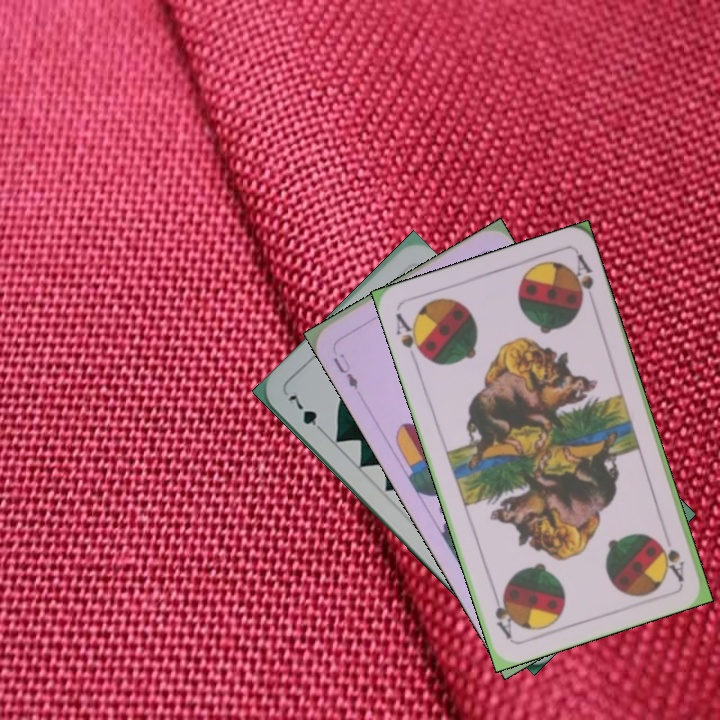EU: (328, 343, 361, 392)
G7: (283, 390, 328, 436)
SA: (391, 308, 429, 362), (657, 538, 688, 584)
